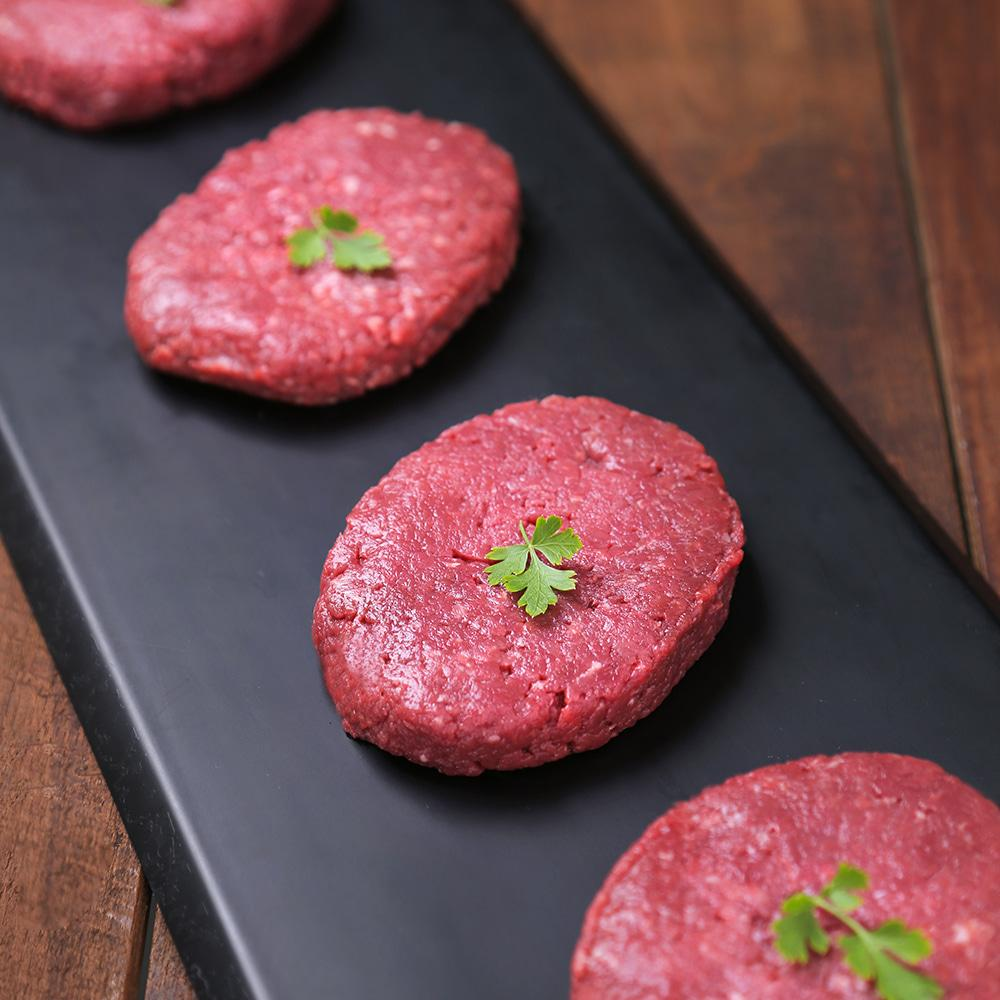beef: (192, 173, 819, 642), (480, 614, 1000, 1000)
